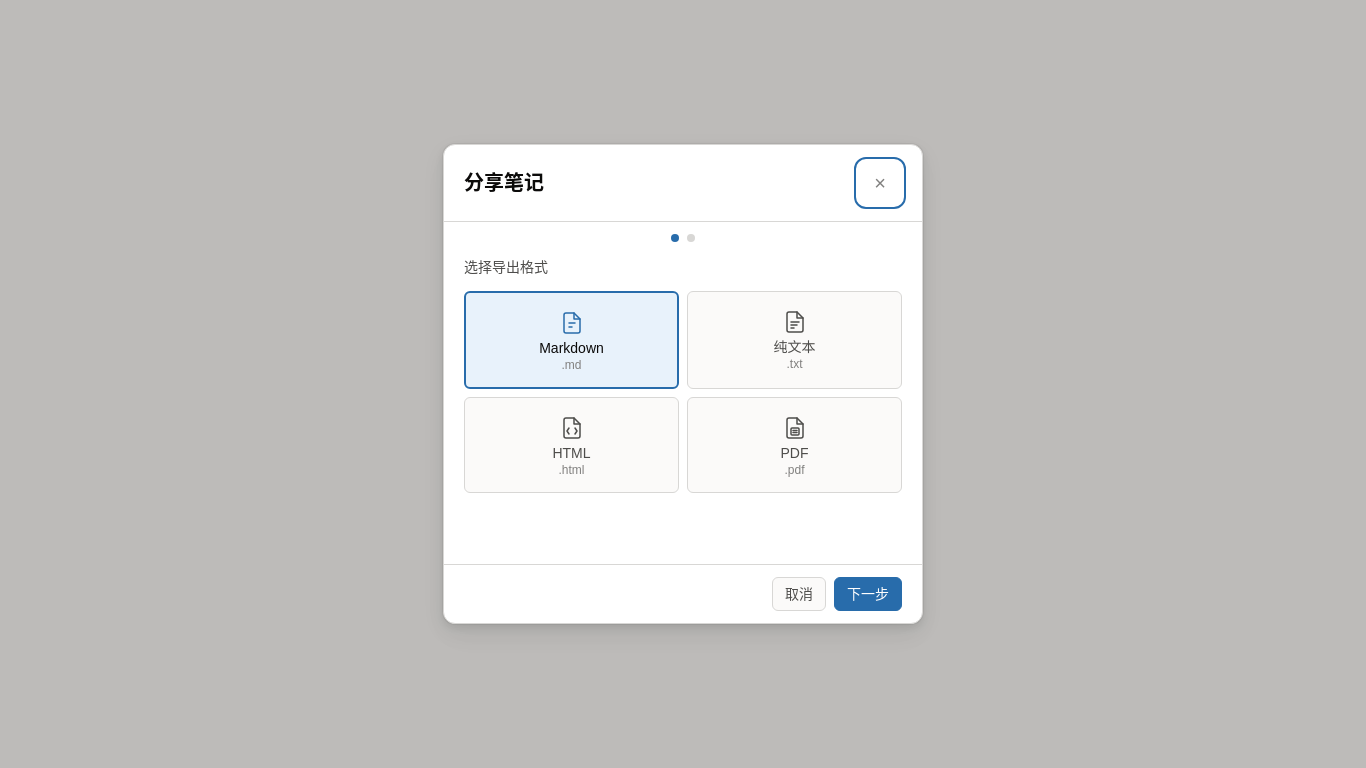
Scenario: ShareDialog PDF 渠道禁用 › 回到非 PDF 格式后渠道恢复可用（disabled 随 selectedFormat 响应式）
The image size is (1366, 768).
Click the button with class "option-card" showing "PDF .pdf". click: (794, 445)
box: x1=687 y1=397 x2=902 y2=493
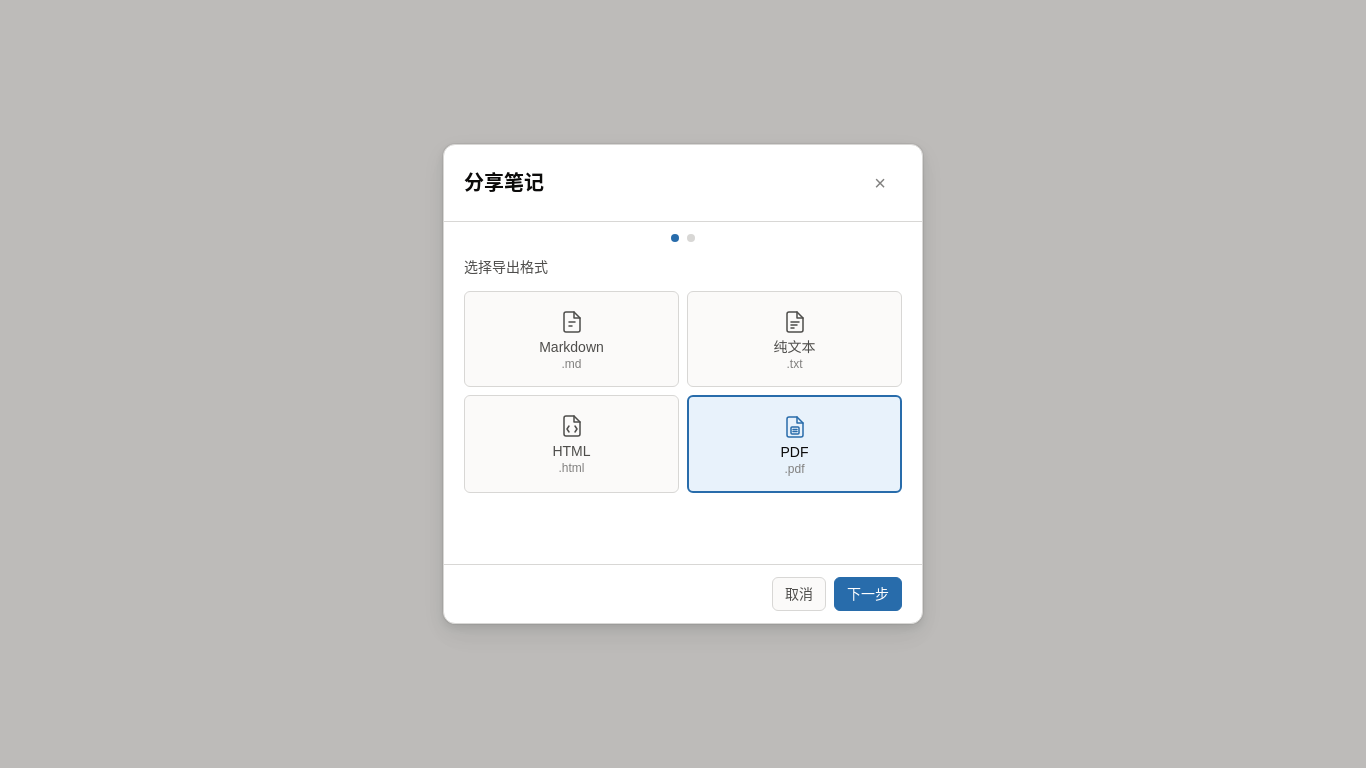
Click the button "下一步". click: (868, 594)
box: x1=834 y1=577 x2=902 y2=611
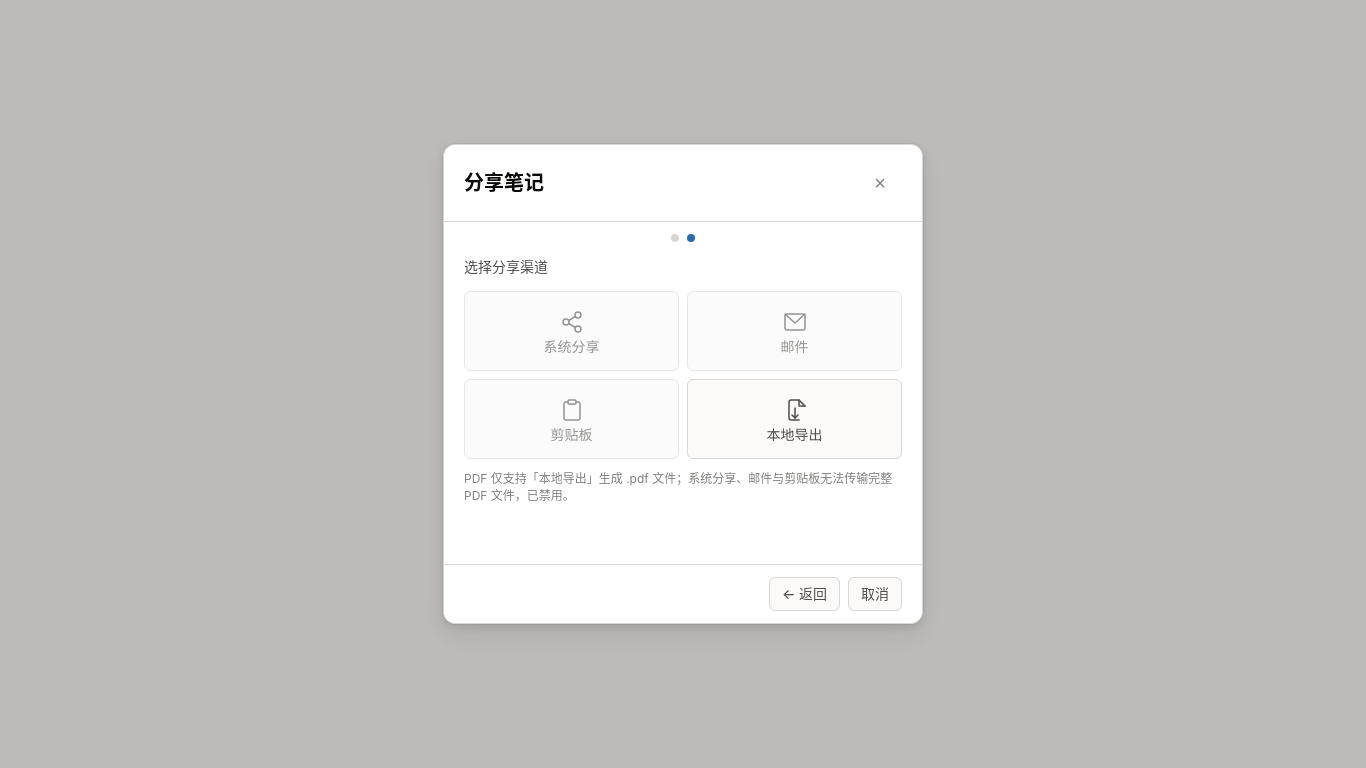
Now the button with class "option-card" showing "系统分享" is disabled, box x1=464 y1=291 x2=679 y2=371
Click the button "← 返回". click: (804, 594)
box: x1=769 y1=577 x2=840 y2=611
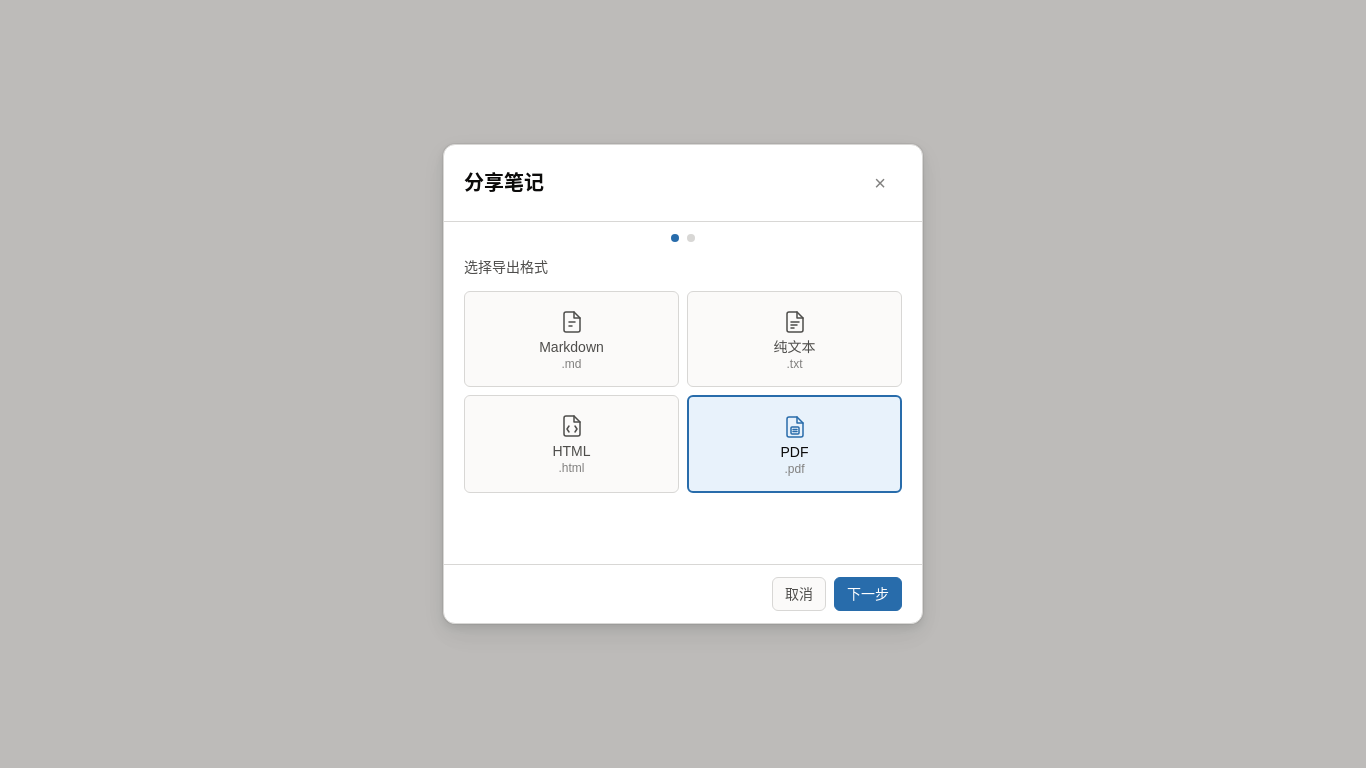
Click the button with class "option-card" showing "Markdown .md". click: (572, 339)
box: x1=464 y1=291 x2=679 y2=387
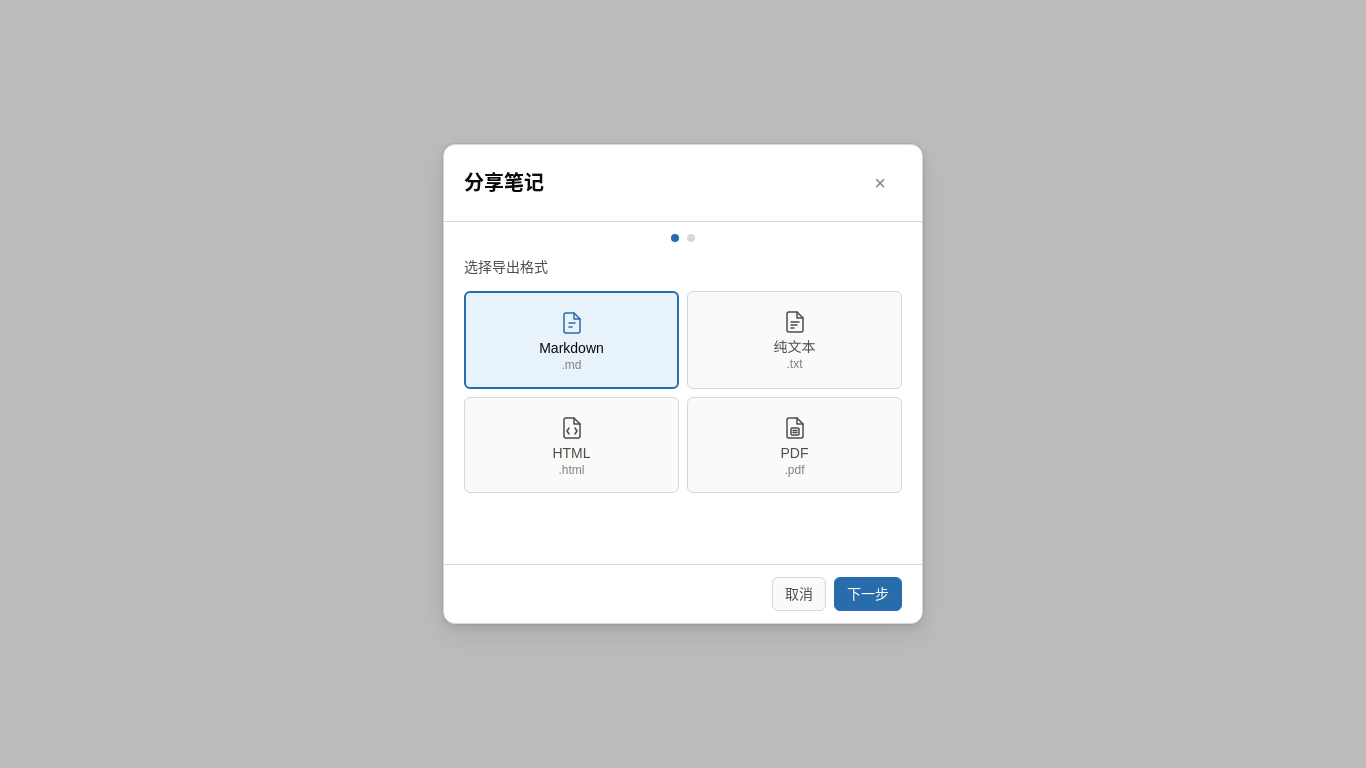
Click the button "下一步". click: (868, 594)
box: x1=834 y1=577 x2=902 y2=611
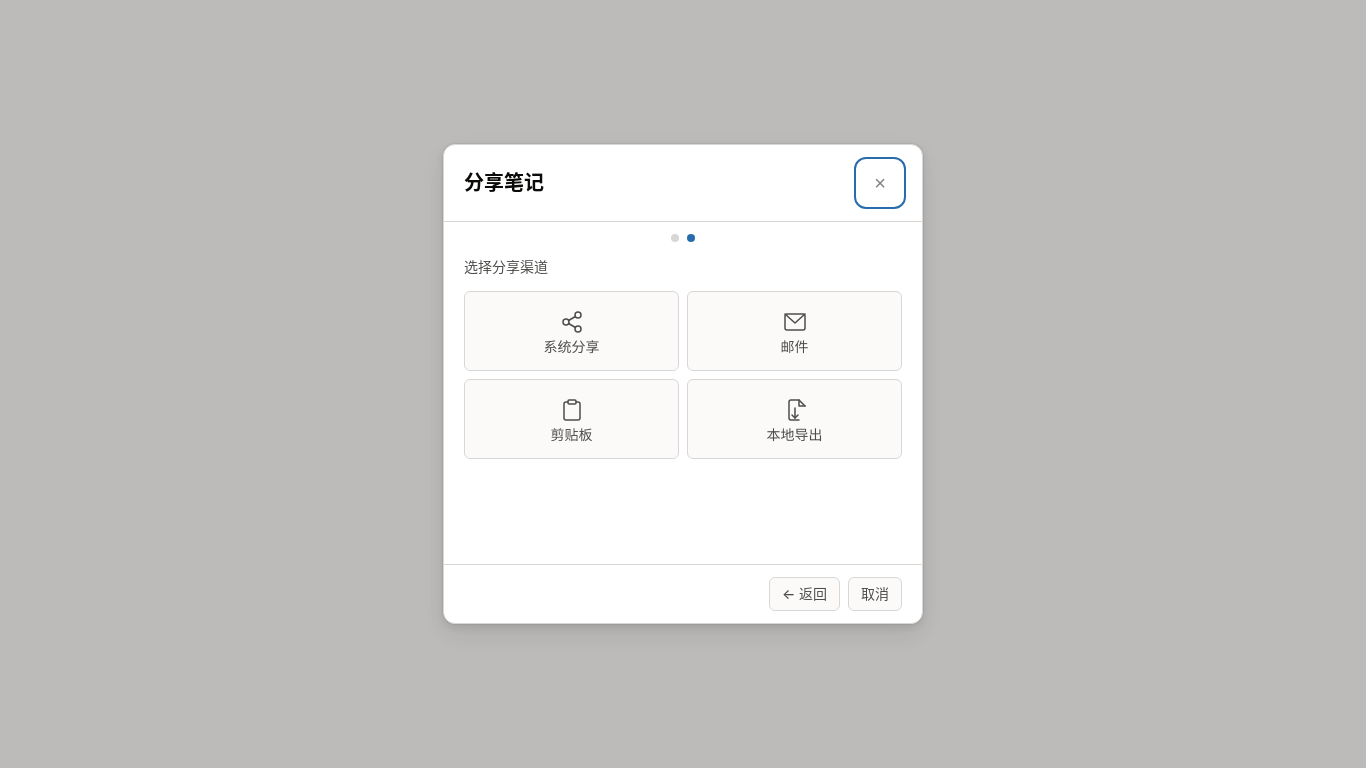
Now the button with class "option-card" showing "系统分享" is enabled, box x1=464 y1=291 x2=679 y2=371
